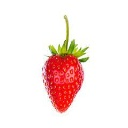strawberry: (39, 41, 88, 114)
